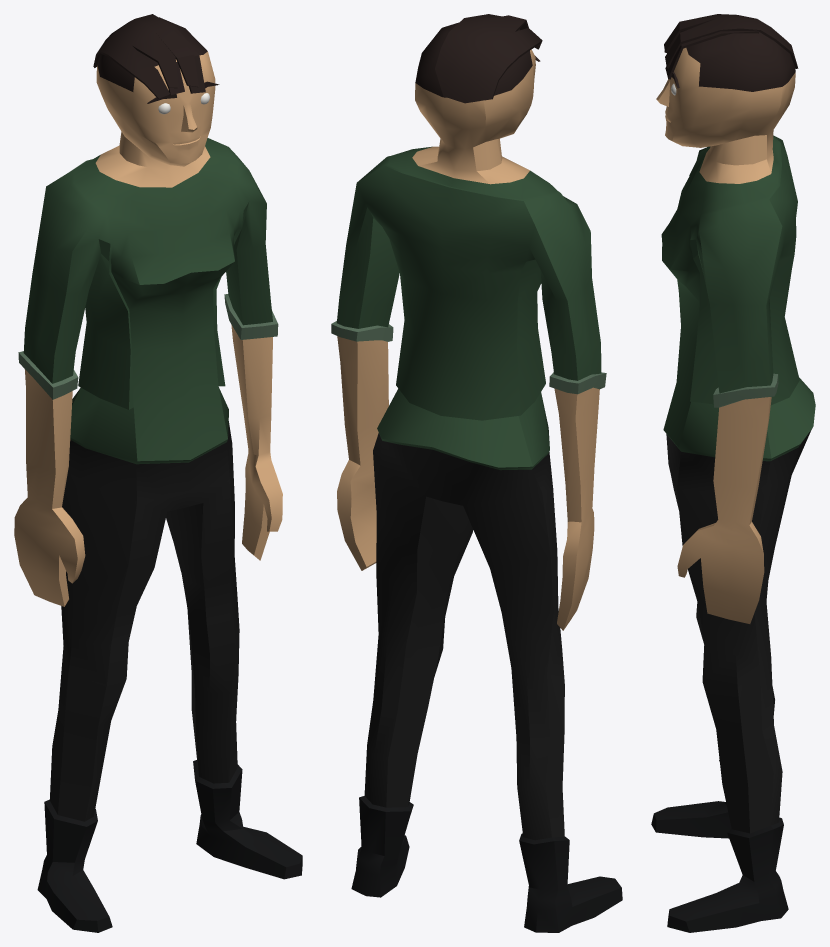
The model's file is female_alternative.glb.
3 views of the same model, side by side, from view 1: azimuth 30°, elevation 25°; view 2: azimuth 150°, elevation 25°; view 3: azimuth 270°, elevation 25° (orthographic). The views are drawn at different scales.
Parts seen in each view (by area): view 1: FemaleAlternative; view 2: FemaleAlternative; view 3: FemaleAlternative.
Part boxes in pixels (x1,y1,x2,y2): FemaleAlternative: [14, 14, 302, 932]; FemaleAlternative: [331, 14, 622, 932]; FemaleAlternative: [651, 14, 815, 932].
Size of the model in its own units: 0.5421 by 1.8 by 0.3151.
